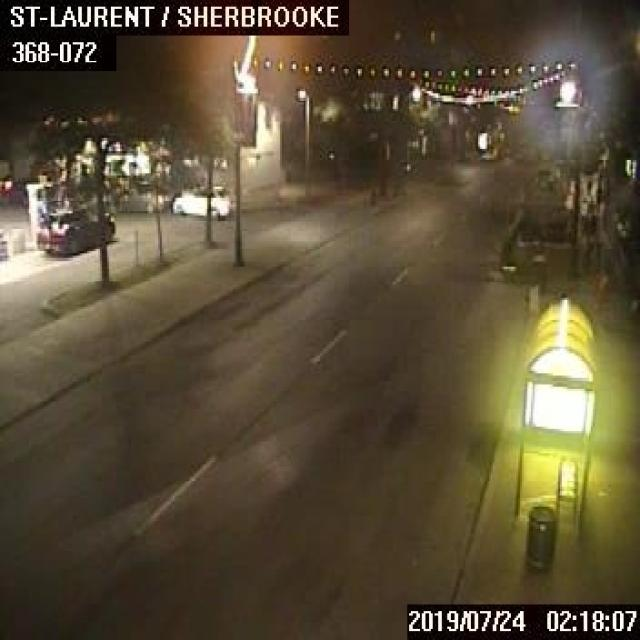vehicle: (35, 210, 114, 255), (171, 183, 229, 216), (113, 182, 167, 212)
